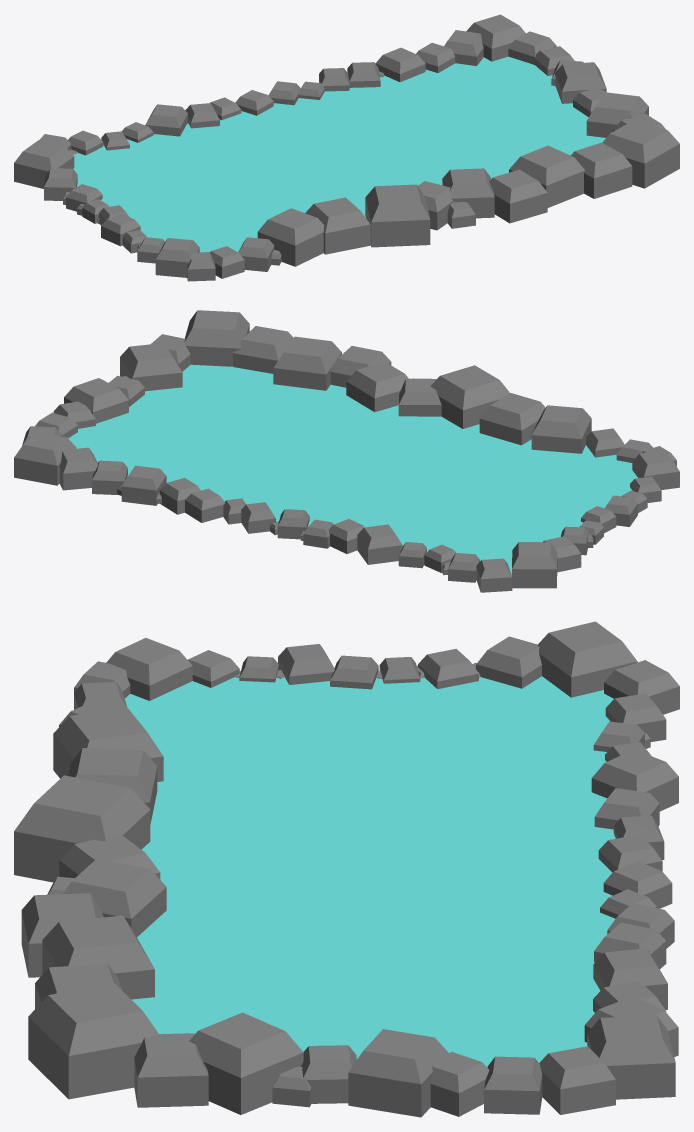
File: Pond.fbx
3 views of the same model, one above another, from view 1: azimuth 30°, elevation 25°; view 2: azimuth 150°, elevation 25°; view 3: azimuth 270°, elevation 25° (orthographic). The views are drawn at different scales.
Parts seen in each view (by area): view 1: Pond.001; view 2: Pond.001; view 3: Pond.001.
Part boxes in pixels (box(x1,y1,x2,y2)): Pond.001: box(14, 14, 679, 281); Pond.001: box(14, 310, 679, 592); Pond.001: box(14, 621, 679, 1117).
Bounding box in the file's own units: 13.3 × 8.28 × 0.941.
